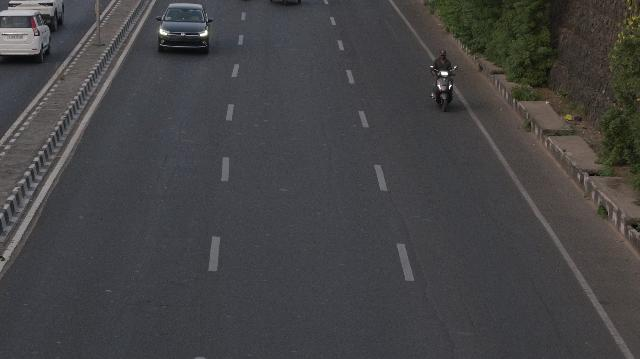Without Helmet: (439, 49, 447, 61)
